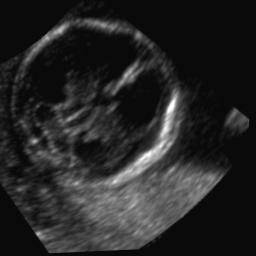abnormal: (0, 0, 218, 226)
